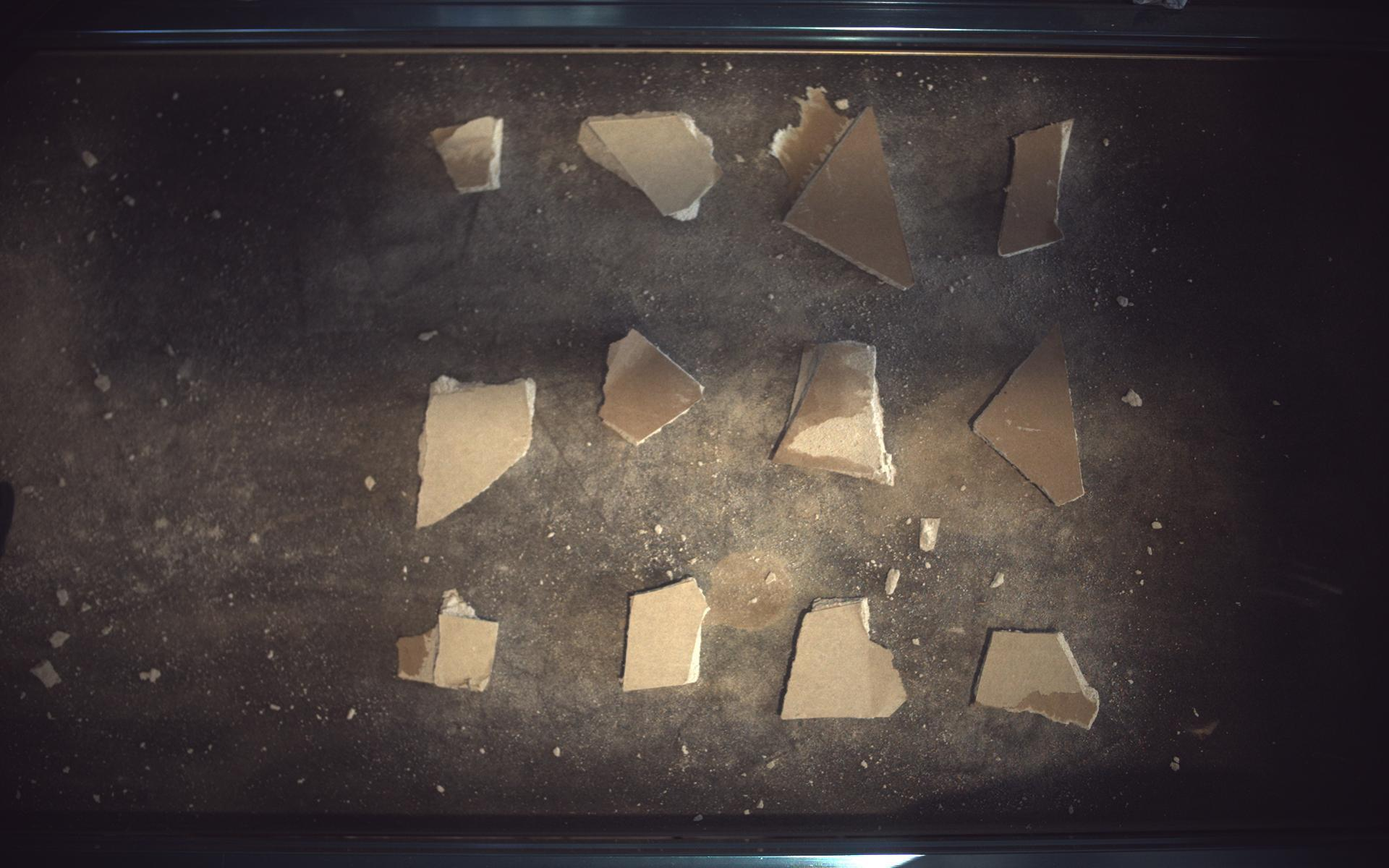gypsum_board: (771, 86, 915, 289), (975, 324, 1087, 506), (416, 375, 536, 528), (775, 341, 897, 486), (579, 110, 723, 220), (783, 598, 908, 720), (600, 328, 705, 446), (977, 631, 1102, 730), (397, 590, 499, 693), (1001, 118, 1076, 256), (624, 578, 710, 692), (430, 116, 503, 193)
